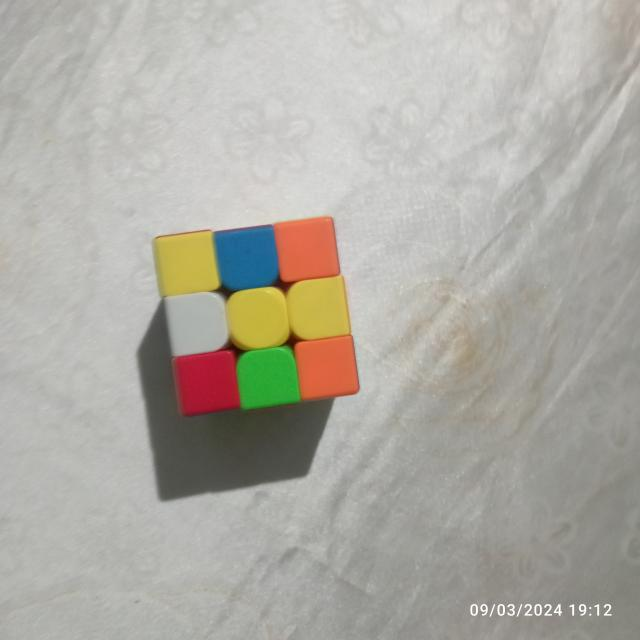Rub: (148, 208, 366, 422)
